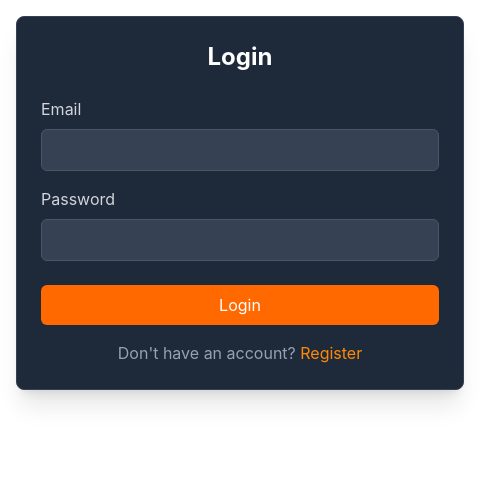
Test: LoginBox › shows error message on failed login
Type "wrong@wrong.com" into the field labelled "Email" at point(240, 150), box [41, 129, 439, 171]
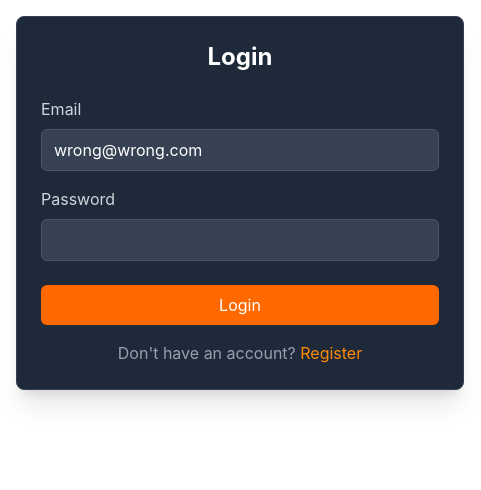
Type "Wr0ng!123" into the password field labelled "Password" at point(240, 240), box [41, 219, 439, 261]
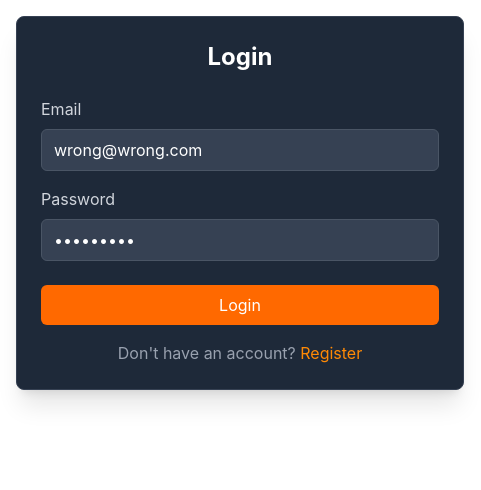
Click the button "Login" at point(240, 305), box [41, 285, 439, 325]
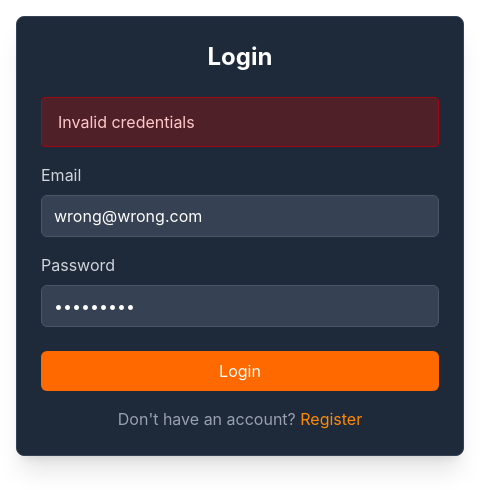
Expected: the text "Invalid credentials" is shown, [41, 97, 439, 147]
